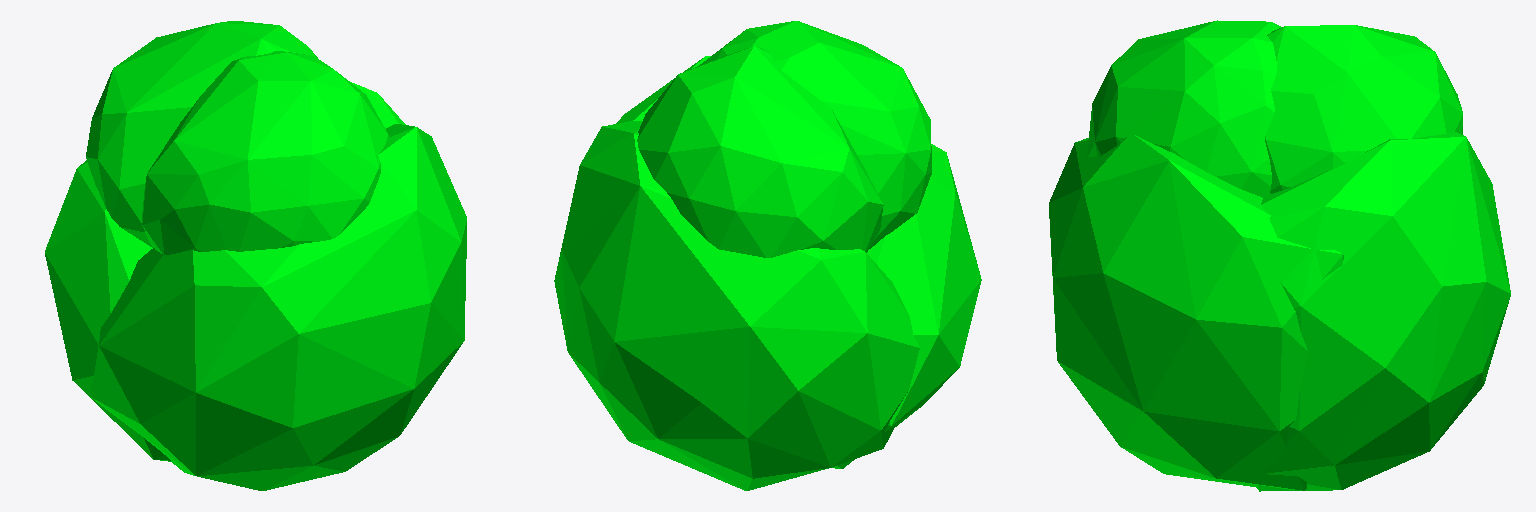
robot.urdf — spiderman_trunk:
<?xml version="1.0"?>
<robot name="spiderman_trunk">
  <material name="White"> <!-- for bones -->
    <color rgba="1 1 1 1"/>
  </material>
  <material name="Green"> <!-- for bones -->
    <color rgba="0 1 0.1 0.2"/>
  </material>
  <material name="Red"> <!-- for bones -->
    <color rgba="1 0 0 1"/>
  </material>

  <link name="base_link"/>
  <joint name="base_link_J" type="fixed">
      <parent link="base_link"/>
      <child link="Pelvis"/>
      <origin rpy="0 0 0" xyz="0 0 0"/>
   </joint>

   <link name="Pelvis">
      <inertial>
         <origin rpy="0 0 0" xyz="0 0 0"/>
         <mass value="8.4552"/>
         <inertia ixx="0" ixy="0" ixz="0" iyy="0" iyz="0" izz="0"/>
      </inertial>
      <visual>
         <origin xyz="0 0 0" rpy="0 0 0"/>
         <geometry>
            <mesh filename="package://hpp-rbprm-corba/meshes/spiderman/spiderman-pelvis_box.stl"/>
         </geometry>
         <material name="Red"/>
      </visual>
      <collision>
         <origin xyz="0 0 0" rpy="0 0 0"/>
         <geometry>
            <mesh filename="package://hpp-rbprm-corba/meshes/spiderman/spiderman-pelvis_box.stl"/>
         </geometry>
      </collision>
   </link>

  <joint name="pelvis_rfoot_rom_joint" type="fixed">
      <parent link="Pelvis"/>
      <child link="pelvis_rfoot_rom"/>
      <origin rpy="0 0 0" xyz="0 0 0"/>
   </joint>

  <link name="pelvis_rfoot_rom">
      <visual>
         <origin xyz="0 0 0" rpy="0 0 0"/>
         <geometry>
            <mesh filename="package://hpp-rbprm-corba/meshes/spiderman/rfoot_rom.stl"/>
         </geometry>
         <material name="Green"/>
      </visual>
   </link>

  <joint name="pelvis_lfoot_rom_joint" type="fixed">
      <parent link="Pelvis"/>
      <child link="pelvis_lfoot_rom"/>
      <origin rpy="0 0 0" xyz="0 0 0"/>
   </joint>

  <link name="pelvis_lfoot_rom">
      <visual>
         <origin xyz="0 0 0" rpy="0 0 0"/>
         <geometry>
            <mesh filename="package://hpp-rbprm-corba/meshes/spiderman/lfoot_rom.stl"/>
         </geometry>
         <material name="Green"/>
      </visual>
   </link>

   <link name="Thorax_rx"/>
   <link name="Thorax_ry"/>
   <link name="Thorax">
      <inertial>
         <origin rpy="0 0 0" xyz="0 0 0"/>
         <mass value="19.8372"/>
         <inertia ixx="-0.16485" ixy="0.25777" ixz="0.0015499" iyy="0.20309" iyz="-0.0061998" izz="-0.18263"/>
      </inertial>
      <visual>
         <origin xyz="0 0 0" rpy="0 0 0"/>
         <geometry>
            <mesh filename="package://hpp-rbprm-corba/meshes/spiderman/spiderman-thorax_box.stl"/>
         </geometry>
         <material name="Red"/>
      </visual>
      <collision>
         <origin xyz="0 0 0" rpy="0 0 0"/>
         <geometry>
            <mesh filename="package://hpp-rbprm-corba/meshes/spiderman/spiderman-thorax_box.stl"/>
         </geometry>
      </collision>
   </link>

  <joint name="thorax_rhand_rom_joint" type="fixed">
      <parent link="Thorax"/>
      <child link="thorax_rhand_rom"/>
      <origin rpy="0 0 0" xyz="0 0 0"/>
   </joint>

  <link name="thorax_rhand_rom">
      <visual>
         <origin xyz="0 0 0" rpy="0 0 0"/>
         <geometry>
            <mesh filename="package://hpp-rbprm-corba/meshes/spiderman/rhand_rom.stl"/>
         </geometry>
         <material name="Green"/>
      </visual>
   </link>

  <joint name="thorax_lhand_rom_joint" type="fixed">
      <parent link="Thorax"/>
      <child link="thorax_lhand_rom"/>
      <origin rpy="0 0 0" xyz="0 0 0"/>
   </joint>

  <link name="thorax_lhand_rom">
      <visual>
         <origin xyz="0 0 0" rpy="0 0 0"/>
         <geometry>
            <mesh filename="package://hpp-rbprm-corba/meshes/spiderman/lhand_rom.stl"/>
         </geometry>
         <material name="Green"/>
      </visual>
   </link>

   <link name="Skull_rx"/>
   <link name="Skull_ry"/>
   <link name="Skull">
      <inertial>
         <origin rpy="0 0 0" xyz="0 0 0"/>
         <mass value="4.2276"/>
         <inertia ixx="0.0071027" ixy="-0.00059867" ixz="-2.9564e-05" iyy="0.0046194" iyz="6.6519e-05" izz="0.0080488"/>
      </inertial>
      <visual>
         <origin xyz="0 0 0" rpy="0 0 0"/>
         <geometry>
            <mesh filename="package://hpp-rbprm-corba/meshes/spiderman/spiderman-skull_box.stl"/>
         </geometry>
         <material name="Red"/>
      </visual>
      <collision>
         <origin xyz="0 0 0" rpy="0 0 0"/>
         <geometry>
            <mesh filename="package://hpp-rbprm-corba/meshes/spiderman/spiderman-skull_box.stl"/>
         </geometry>
      </collision>
   </link>

  <joint name="A_Thorax_rx" type="revolute"> <!-- A_ added for order while parsing with ROS -->
      <parent link="Pelvis"/>
      <child link="Thorax_rx"/>
      <origin rpy="0 0 0" xyz="0.0373 0.0006 0.0788"/>
      <axis xyz="1 0 0"/>
      <limit effort="0" lower="-1" upper="1" velocity="1.0"/>
   </joint>
   <joint name="Thorax_ry" type="revolute">
      <parent link="Thorax_rx"/>
      <child link="Thorax_ry"/>
      <origin rpy="0 0 0" xyz="0 0 0"/>
      <axis xyz="0 1 0"/>
      <limit effort="0" lower="-0.8" upper="0.8" velocity="1.0"/>
   </joint>
   <joint name="Thorax_rz" type="revolute">
      <parent link="Thorax_ry"/>
      <child link="Thorax"/>
      <origin rpy="0 0 0" xyz="0 0 0"/>
      <axis xyz="0 0 1"/>
      <limit effort="0" lower="-1.5" upper="1.5" velocity="1.0"/>
   </joint>
   <joint name="A_Skull_rx" type="revolute"> <!-- A_ added for order while parsing with ROS -->
      <parent link="Thorax"/>
      <child link="Skull_rx"/>
      <origin rpy="0 0 0" xyz="0.0711 -0.0005 0.6039"/>
      <axis xyz="1 0 0"/>
      <limit effort="0" lower="-0.3" upper="0.3" velocity="1.0"/>
   </joint>
   <joint name="Skull_ry" type="revolute">
      <parent link="Skull_rx"/>
      <child link="Skull_ry"/>
      <origin rpy="0 0 0" xyz="0 0 0"/>
      <axis xyz="0 1 0"/>
      <limit effort="0" lower="-1.1" upper="0.6" velocity="1.0"/>
   </joint>
   <joint name="Skull_rz" type="revolute">
      <parent link="Skull_ry"/>
      <child link="Skull"/>
      <origin rpy="0 0 0" xyz="0 0 0"/>
      <axis xyz="0 0 1"/>
      <limit effort="0" lower="-1.4" upper="1." velocity="1.0"/>
   </joint>
</robot>

--- Facts derived from the render (not from the file) ---
3 views of the same robot in one strip: view 1: azimuth 30°, elevation 25°; view 2: azimuth 150°, elevation 25°; view 3: azimuth 270°, elevation 25° (orthographic).
Robot: spiderman_trunk — 12 links, 11 joints (6 revolute, 5 fixed); root link base_link; default pose: all joints at 0.
Visible links, largest first — view 1: pelvis_rfoot_rom, thorax_rhand_rom, thorax_lhand_rom, pelvis_lfoot_rom; view 2: pelvis_lfoot_rom, thorax_lhand_rom, thorax_rhand_rom, pelvis_rfoot_rom; view 3: pelvis_rfoot_rom, pelvis_lfoot_rom, thorax_rhand_rom, thorax_lhand_rom.
Boxes of the visible links, x1,y1,x2,y2 form: pelvis_rfoot_rom: [90, 124, 466, 490]; thorax_rhand_rom: [142, 51, 388, 255]; thorax_lhand_rom: [86, 21, 317, 247]; pelvis_lfoot_rom: [45, 81, 405, 461]; pelvis_lfoot_rom: [554, 121, 919, 490]; thorax_lhand_rom: [637, 46, 883, 257]; thorax_rhand_rom: [699, 21, 931, 248]; pelvis_rfoot_rom: [616, 56, 981, 468]; pelvis_rfoot_rom: [1049, 134, 1343, 490]; pelvis_lfoot_rom: [1255, 131, 1510, 491]; thorax_rhand_rom: [1087, 20, 1281, 197]; thorax_lhand_rom: [1265, 25, 1462, 193].
Size in the robot's own frame: 1.82 by 1.95 by 2.12 metres.
Meshes: 7 distinct files referenced, 7 mesh visuals loaded (7 binary STL).
